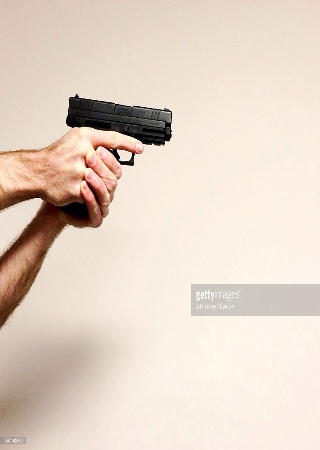handgun: (68, 89, 173, 167)
